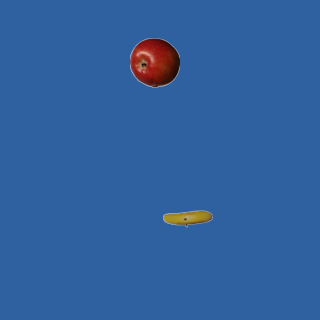Apple Braeburn: (129, 37, 179, 87)
Banana: (162, 193, 212, 243)
